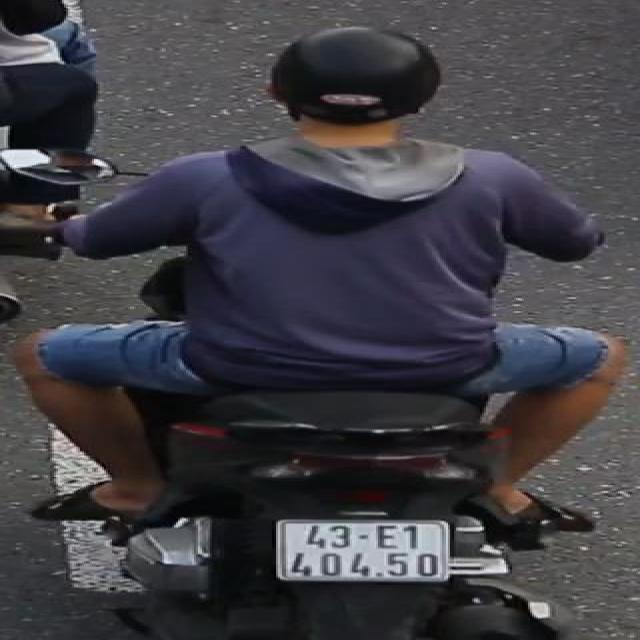LP: (267, 512, 455, 588)
helmet: (260, 20, 456, 152)
